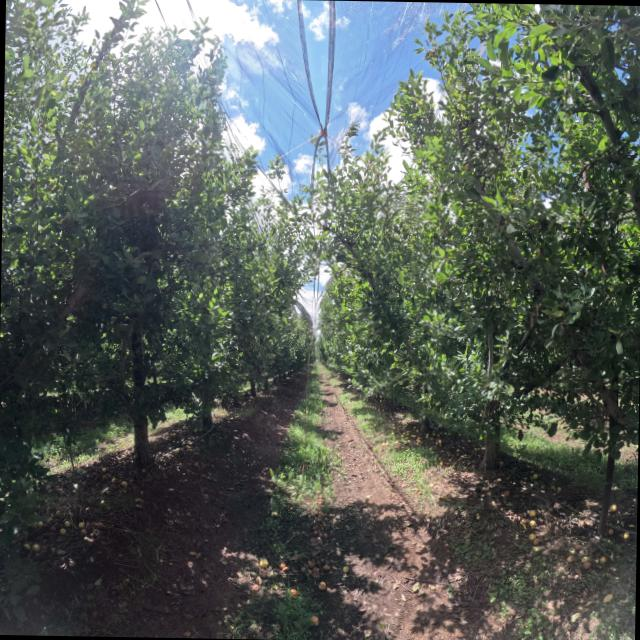-FireBlight-: (89, 160, 180, 223)
